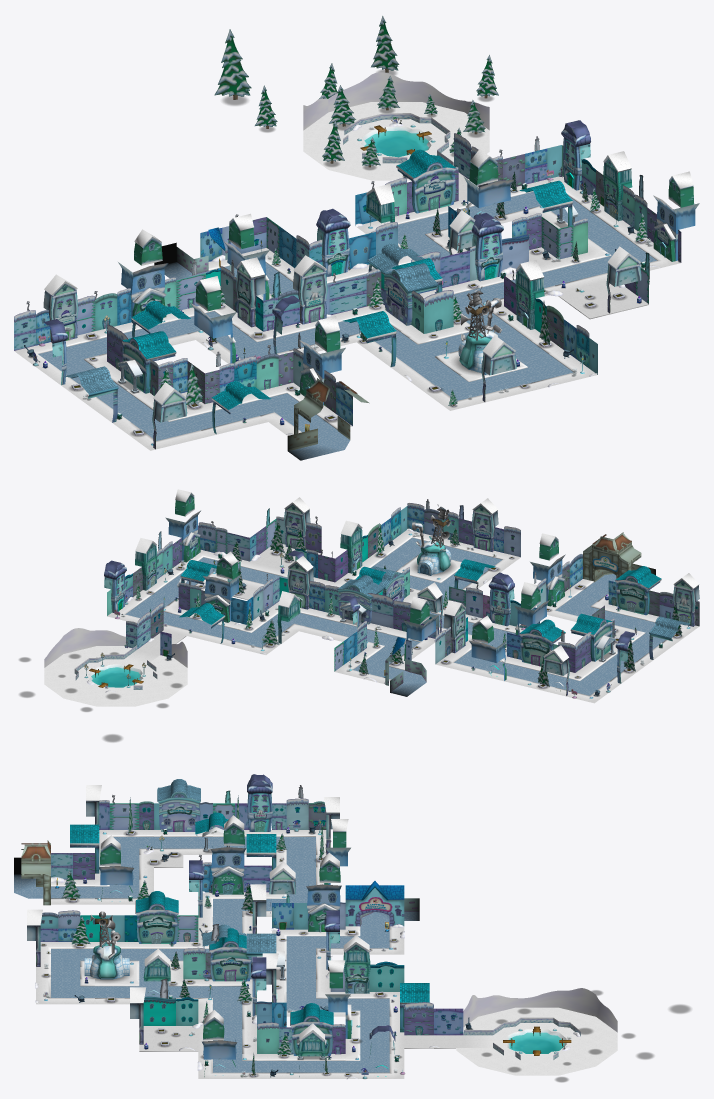
Rendered from sleet_street.glb.
The picture shows the model from 3 angles, top to bottom: view 1: azimuth 30°, elevation 25°; view 2: azimuth 150°, elevation 25°; view 3: azimuth 270°, elevation 25°; orthographic projection. The views are drawn at different scales.
Visible parts, largest first — view 1: o296 (×6), building_back (×7), o184 (×6), street_full_corner_street (×7), BR_B3_front (×4), outside_ground, bldg_back (×3), o190 (×3), outside_fence, street_40x40_street (×3), street_full_corner_sidewalk (×3), p287_2__billboard (×2) (+13 smaller); view 2: o296 (×6), building_back (×7), o184 (×6), outside_ground, street_40x40_street (×7), o190 (×3), bldg_back (×3), street_full_corner_sidewalk (×5), BR_B3_front (×3), street_full_corner_street (×4), outside_fence, shadow (+11 smaller); view 3: street_full_corner_street (×13), o296 (×6), o184 (×6), outside_ground, wall_md_blank_ur (×6), building_back (×6), street_40x40_street (×5), BR_B3_front (×4), outside_fence, bldg_back (×3), o190 (×2), shadow (+16 smaller).
Part boxes in pixels (left/top/right/bottom): o296 (×6): left=118, top=149, right=699, bottom=405; building_back (×7): left=43, top=210, right=641, bottom=449; o184 (×6): left=122, top=149, right=573, bottom=434; street_full_corner_street (×7): left=38, top=219, right=572, bottom=440; BR_B3_front (×4): left=44, top=120, right=590, bottom=385; outside_ground: left=303, top=102, right=489, bottom=180; bldg_back (×3): left=366, top=151, right=632, bottom=329; o190 (×3): left=64, top=243, right=437, bottom=422; outside_fence: left=303, top=72, right=489, bottom=130; street_40x40_street (×3): left=98, top=259, right=607, bottom=430; street_full_corner_sidewalk (×3): left=117, top=350, right=597, bottom=450; p287_2__billboard (×2): left=214, top=16, right=399, bottom=99; o296 (×6): left=165, top=489, right=565, bottom=680; building_back (×7): left=284, top=497, right=699, bottom=695; o184 (×6): left=179, top=559, right=661, bottom=666; outside_ground: left=44, top=646, right=187, bottom=706; street_40x40_street (×7): left=145, top=566, right=646, bottom=681; o190 (×3): left=337, top=566, right=690, bottom=659; bldg_back (×3): left=135, top=520, right=362, bottom=643; street_full_corner_sidewalk (×5): left=221, top=548, right=620, bottom=703; BR_B3_front (×3): left=104, top=560, right=635, bottom=683; street_full_corner_street (×4): left=228, top=596, right=608, bottom=695; outside_fence: left=44, top=628, right=187, bottom=667; shadow: left=412, top=513, right=453, bottom=575; street_full_corner_street (×13): left=51, top=837, right=389, bottom=1072; o296 (×6): left=99, top=815, right=351, bottom=1076; o184 (×6): left=70, top=824, right=429, bottom=1055; outside_ground: left=457, top=1007, right=617, bottom=1075; wall_md_blank_ur (×6): left=143, top=803, right=404, bottom=1053; building_back (×6): left=27, top=785, right=339, bottom=1044; street_40x40_street (×5): left=154, top=837, right=389, bottom=1072; BR_B3_front (×4): left=189, top=774, right=339, bottom=1016; outside_fence: left=463, top=988, right=617, bottom=1032; bldg_back (×3): left=143, top=935, right=370, bottom=1076; o190 (×2): left=157, top=779, right=276, bottom=956; shadow: left=84, top=911, right=130, bottom=981.
Size of the model in its own units: 436 by 59.29 by 466.
228 materials, 219 textured.
